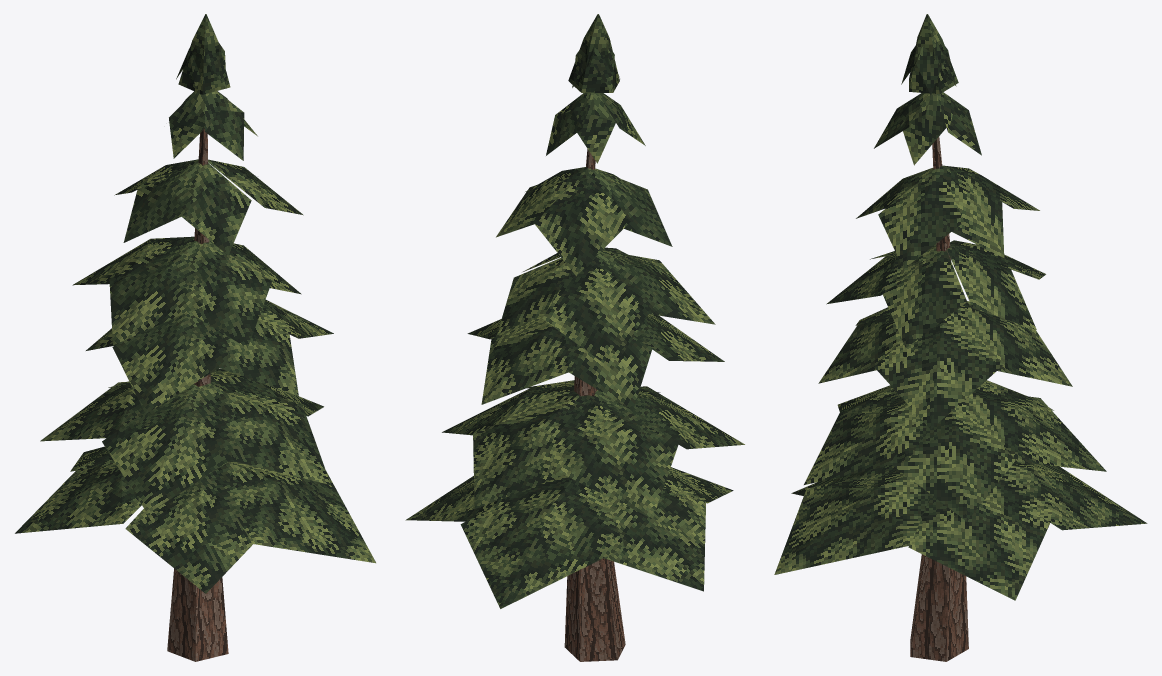
File: TREE_Pine_C_LOD2.glb
The picture shows the model from 3 angles, left to right: view 1: azimuth 30°, elevation 25°; view 2: azimuth 150°, elevation 25°; view 3: azimuth 270°, elevation 25°; orthographic projection.
Parts seen in each view (by area): view 1: TREE_Pine_C_LOD2__Foliage, TREE_Pine_C_LOD2__Bark; view 2: TREE_Pine_C_LOD2__Foliage, TREE_Pine_C_LOD2__Bark; view 3: TREE_Pine_C_LOD2__Foliage, TREE_Pine_C_LOD2__Bark.
Part boxes in pixels (<box>): TREE_Pine_C_LOD2__Foliage: <box>15,14,375,593</box>; TREE_Pine_C_LOD2__Bark: <box>167,129,228,661</box>; TREE_Pine_C_LOD2__Foliage: <box>405,14,744,608</box>; TREE_Pine_C_LOD2__Bark: <box>564,149,625,661</box>; TREE_Pine_C_LOD2__Foliage: <box>774,14,1147,600</box>; TREE_Pine_C_LOD2__Bark: <box>910,136,968,661</box>.
Size of the model in its own units: 5.27 by 10.71 by 5.7.
Materials: 2 (2 with a texture image).
